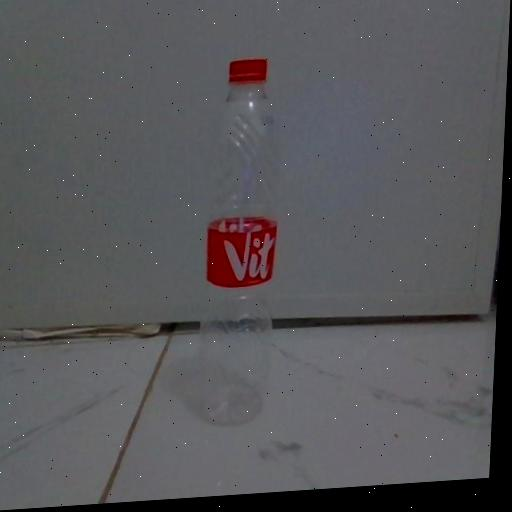ba: (171, 32, 306, 454)
